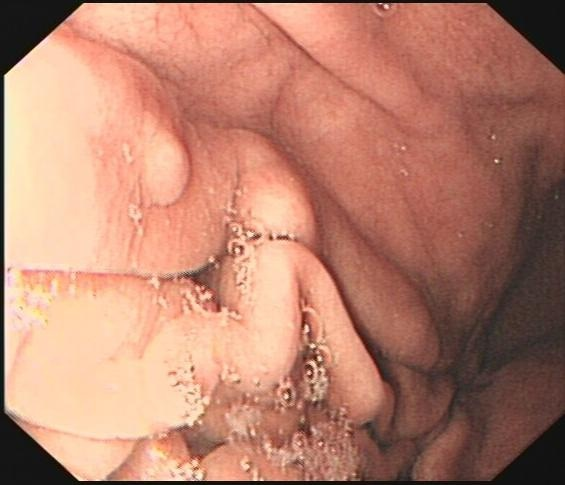Polyp: (132, 124, 198, 211)
